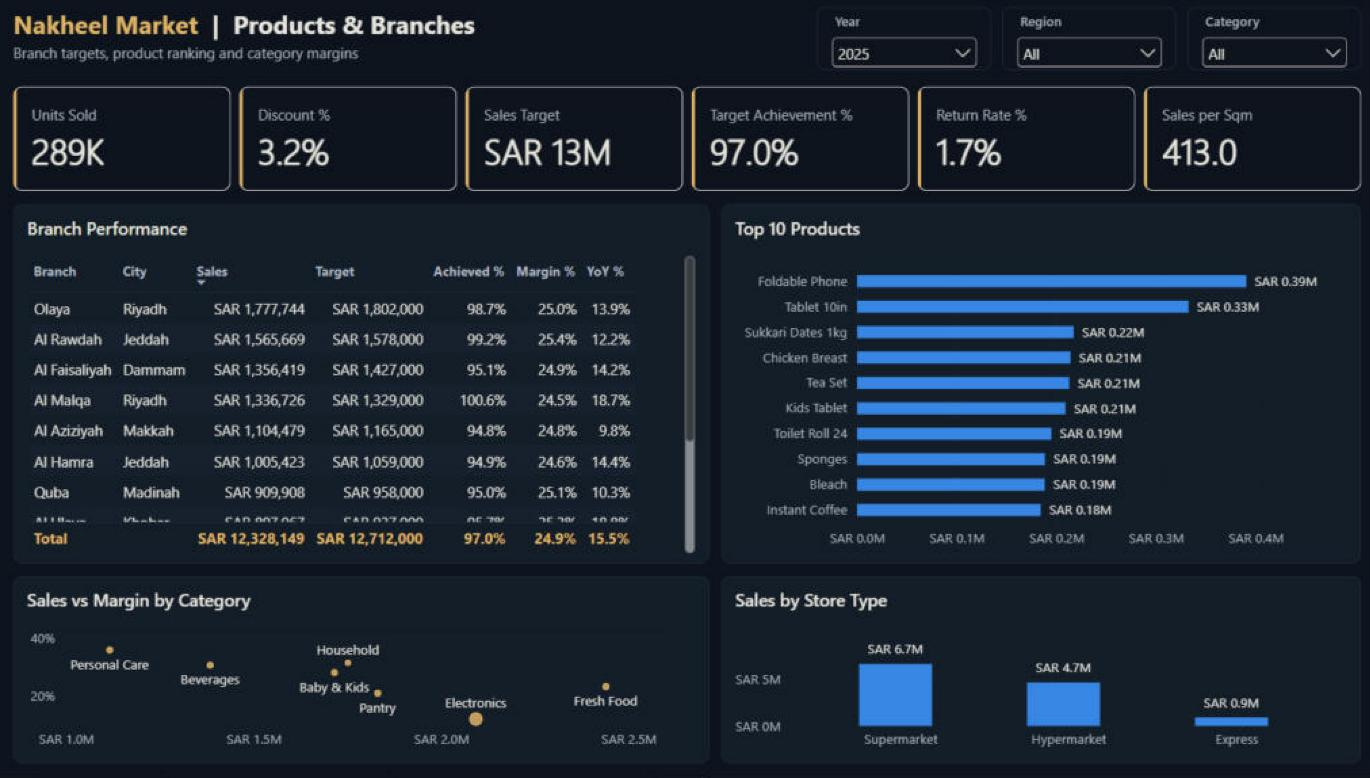

What the dashboard file says about the page in this screenshot:
{"tool":"powerbi","page":{"name":"Products & Branches","canvas":[1280,720],"ordinal":1},"visuals":[{"type":"textbox","box":[20,10,640,34],"z":1000},{"type":"textbox","box":[20,42,700,22],"z":2000},{"type":"slicer","fields":{"Values":["DimDate.Year"]},"box":[760,10,160,58],"z":3000},{"type":"slicer","fields":{"Values":["DimBranch.Region"]},"box":[930,10,160,58],"z":4000},{"type":"slicer","fields":{"Values":["DimProduct.Category"]},"box":[1100,10,160,58],"z":5000},{"type":"cardVisual","fields":{"Data":["_Measures.Units Sold","_Measures.Discount %","_Measures.Sales Target","_Measures.Target Achievement %","_Measures.Return Rate %","_Measures.Sales per Sqm"]},"box":[20,82,1240,96],"z":6000},{"type":"tableEx","title":"Branch Performance","fields":{"Values":["DimBranch.BranchName","DimBranch.City","_Measures.Total Sales","_Measures.Sales Target","_Measures.Target Achievement %","_Measures.Profit Margin %","_Measures.Sales YoY %"]},"box":[20,190,640,330],"z":7000},{"type":"clusteredBarChart","title":"Top 10 Products","fields":{"Category":["DimProduct.ProductName"],"Y":["_Measures.Top 10 Product Sales"]},"box":[672,190,588,330],"z":8000},{"type":"scatterChart","title":"Sales vs Margin by Category","fields":{"Category":["DimProduct.Category"],"Size":["_Measures.Return Rate %"],"X":["_Measures.Total Sales"],"Y":["_Measures.Profit Margin %"]},"box":[20,532,640,172],"z":9000},{"type":"clusteredColumnChart","title":"Sales by Store Type","fields":{"Category":["DimBranch.StoreType"],"Y":["_Measures.Total Sales"]},"box":[672,532,588,172],"z":10000}]}

Visuals, with their boxes in screenshot pixels (x1, y1, x2, y2), scaled from the page's 1280x720 canvas onto the 1370x778 screenshot:
textbox: [21,11,706,48]
textbox: [21,45,771,69]
slicer - DimDate.Year: [813,11,985,73]
slicer - DimBranch.Region: [995,11,1167,73]
slicer - DimProduct.Category: [1177,11,1349,73]
cardVisual - _Measures.Units Sold x _Measures.Discount %: [21,89,1349,192]
"Branch Performance" tableEx: [21,205,706,562]
"Top 10 Products" clusteredBarChart: [719,205,1349,562]
"Sales vs Margin by Category" scatterChart: [21,575,706,761]
"Sales by Store Type" clusteredColumnChart: [719,575,1349,761]
